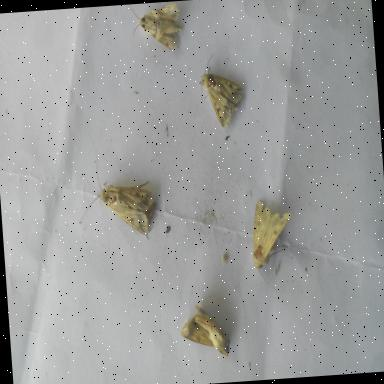abw: (73, 148, 161, 244), (245, 192, 302, 300), (194, 48, 248, 134), (174, 296, 236, 363), (126, 1, 188, 60)
